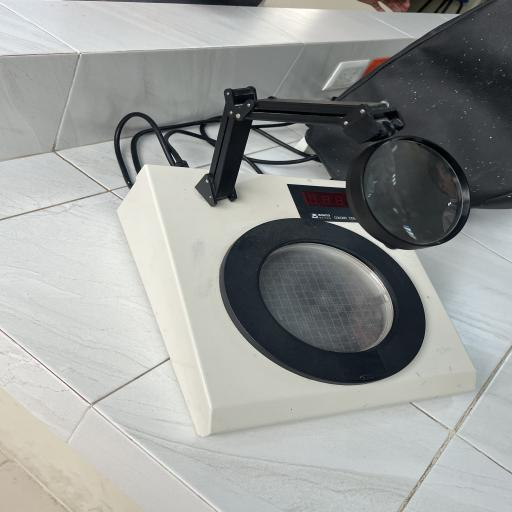Contador_Colonias_CC1: (93, 80, 492, 442)
